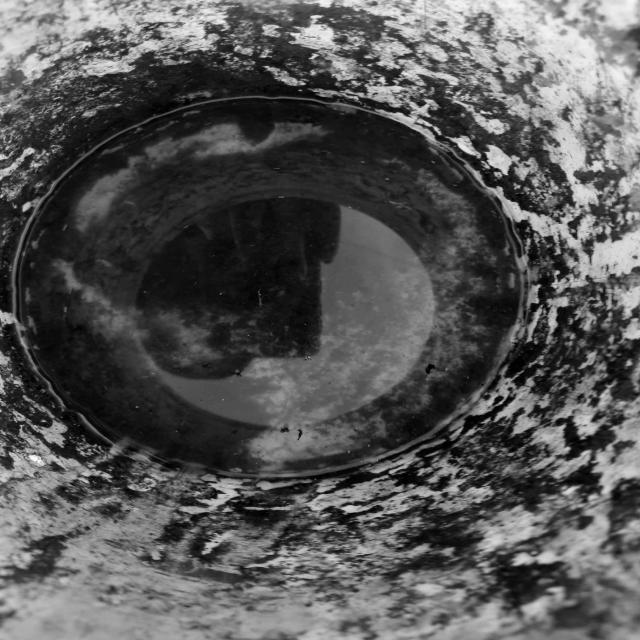Breeding Place: (0, 47, 580, 523)
